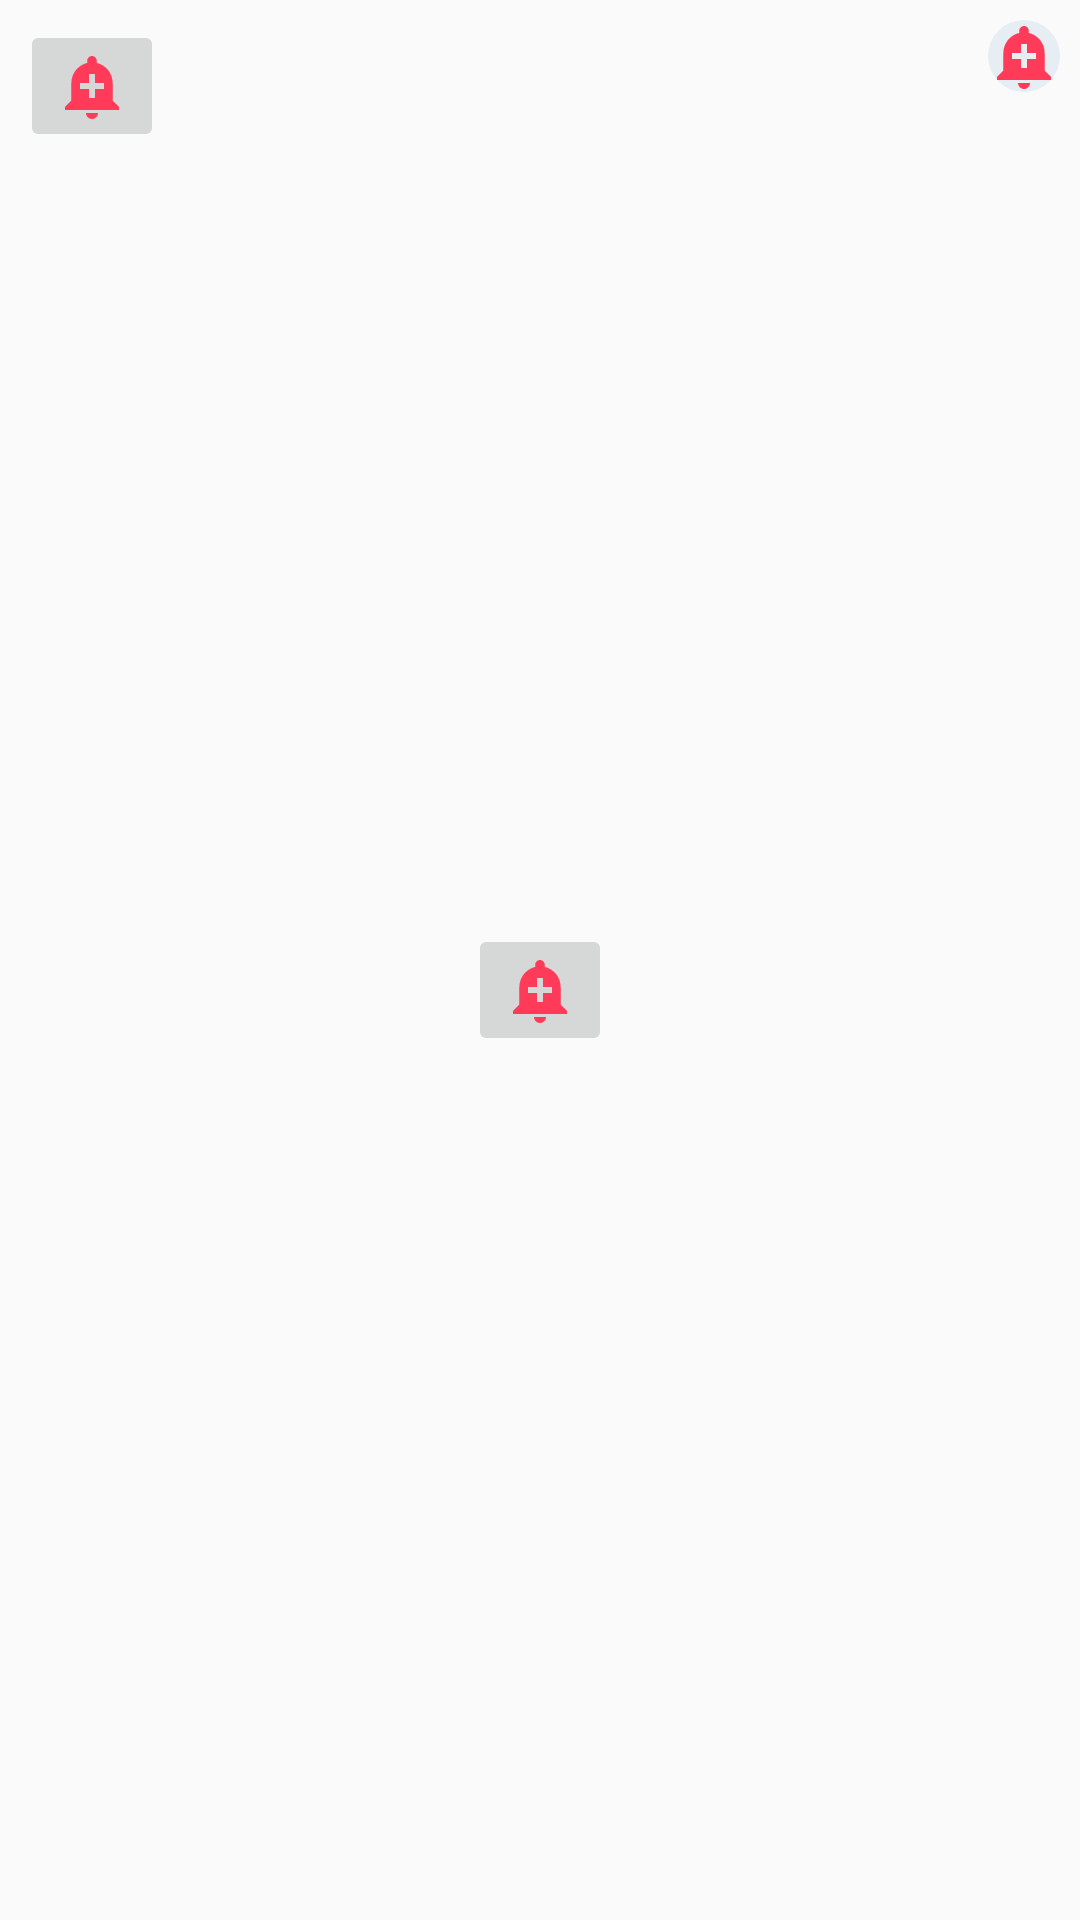

Where icons sit on this 1080×1920 app screen, as bbox=[x1, y1, x2, y2]:
add reminder: bbox=[997, 26, 1051, 89], bbox=[32, 38, 152, 134], bbox=[480, 942, 600, 1038]
